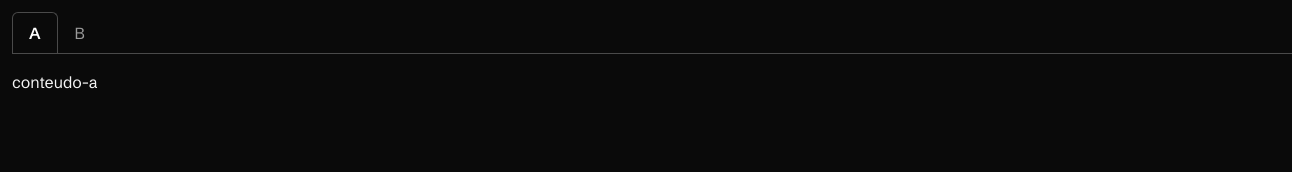
it: Tabs › renderiza só o painel ativo e expõe roles ARIA
Expected: the text "conteudo-a" is shown, [12,72,98,92]
Expected: the text "conteudo-b" is not shown
Click the tab "B": (80, 33) [58,12,102,54]
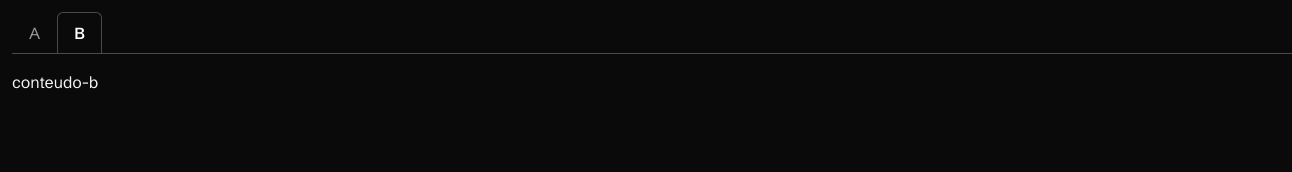
Expected: the tab "B" is selected, [57,12,102,54]
